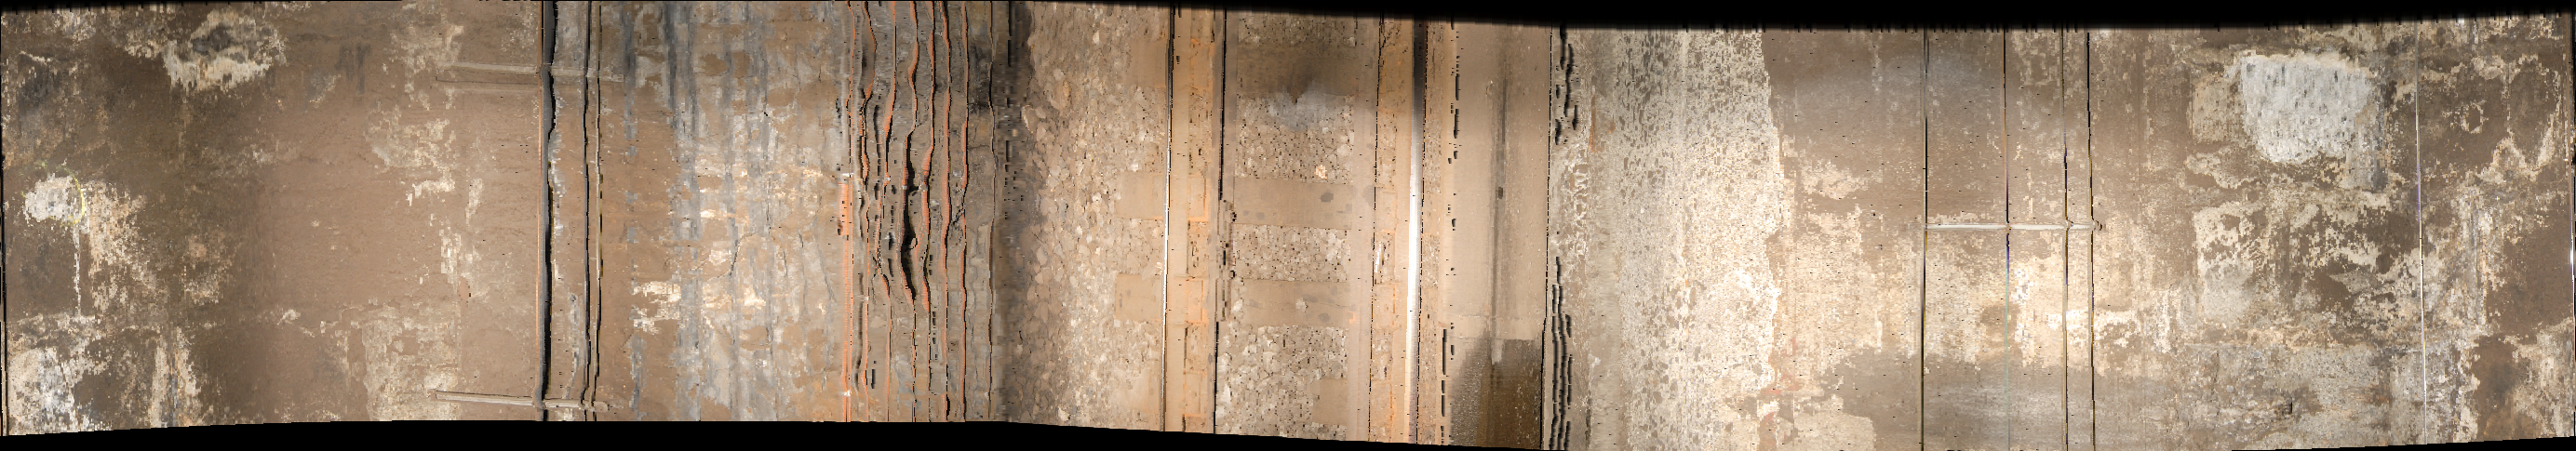pipes: (841, 5, 1007, 441), (537, 5, 618, 451), (2054, 26, 2105, 451), (1912, 33, 1937, 451), (1996, 26, 2017, 451)
tracks: (1160, 2, 1460, 451)
